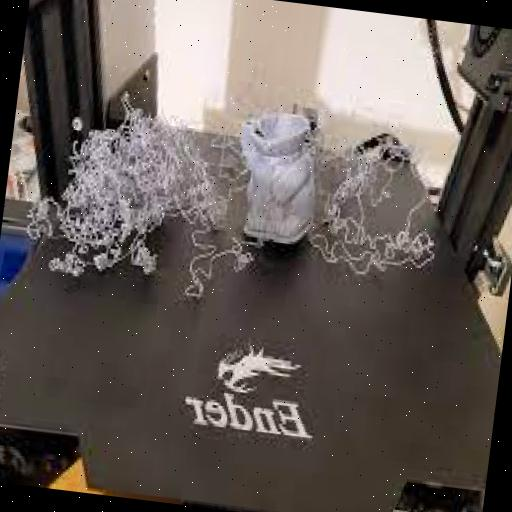spaghetti: (22, 84, 234, 318), (314, 93, 446, 289)
